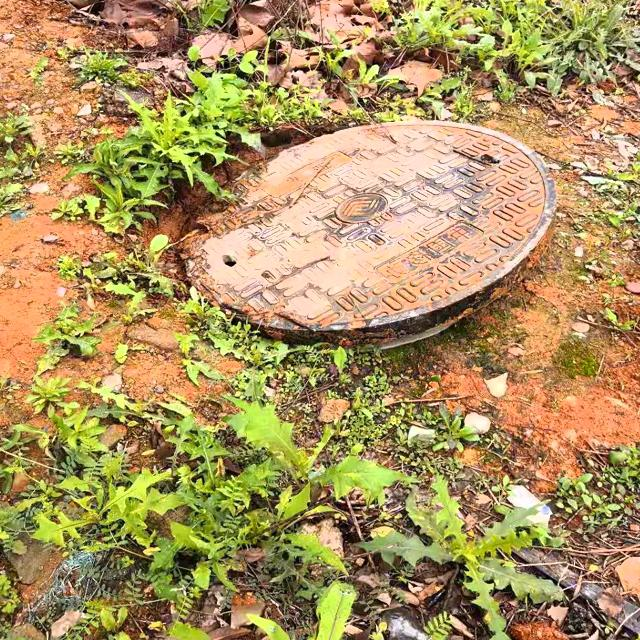uncovered: (109, 100, 572, 352)
